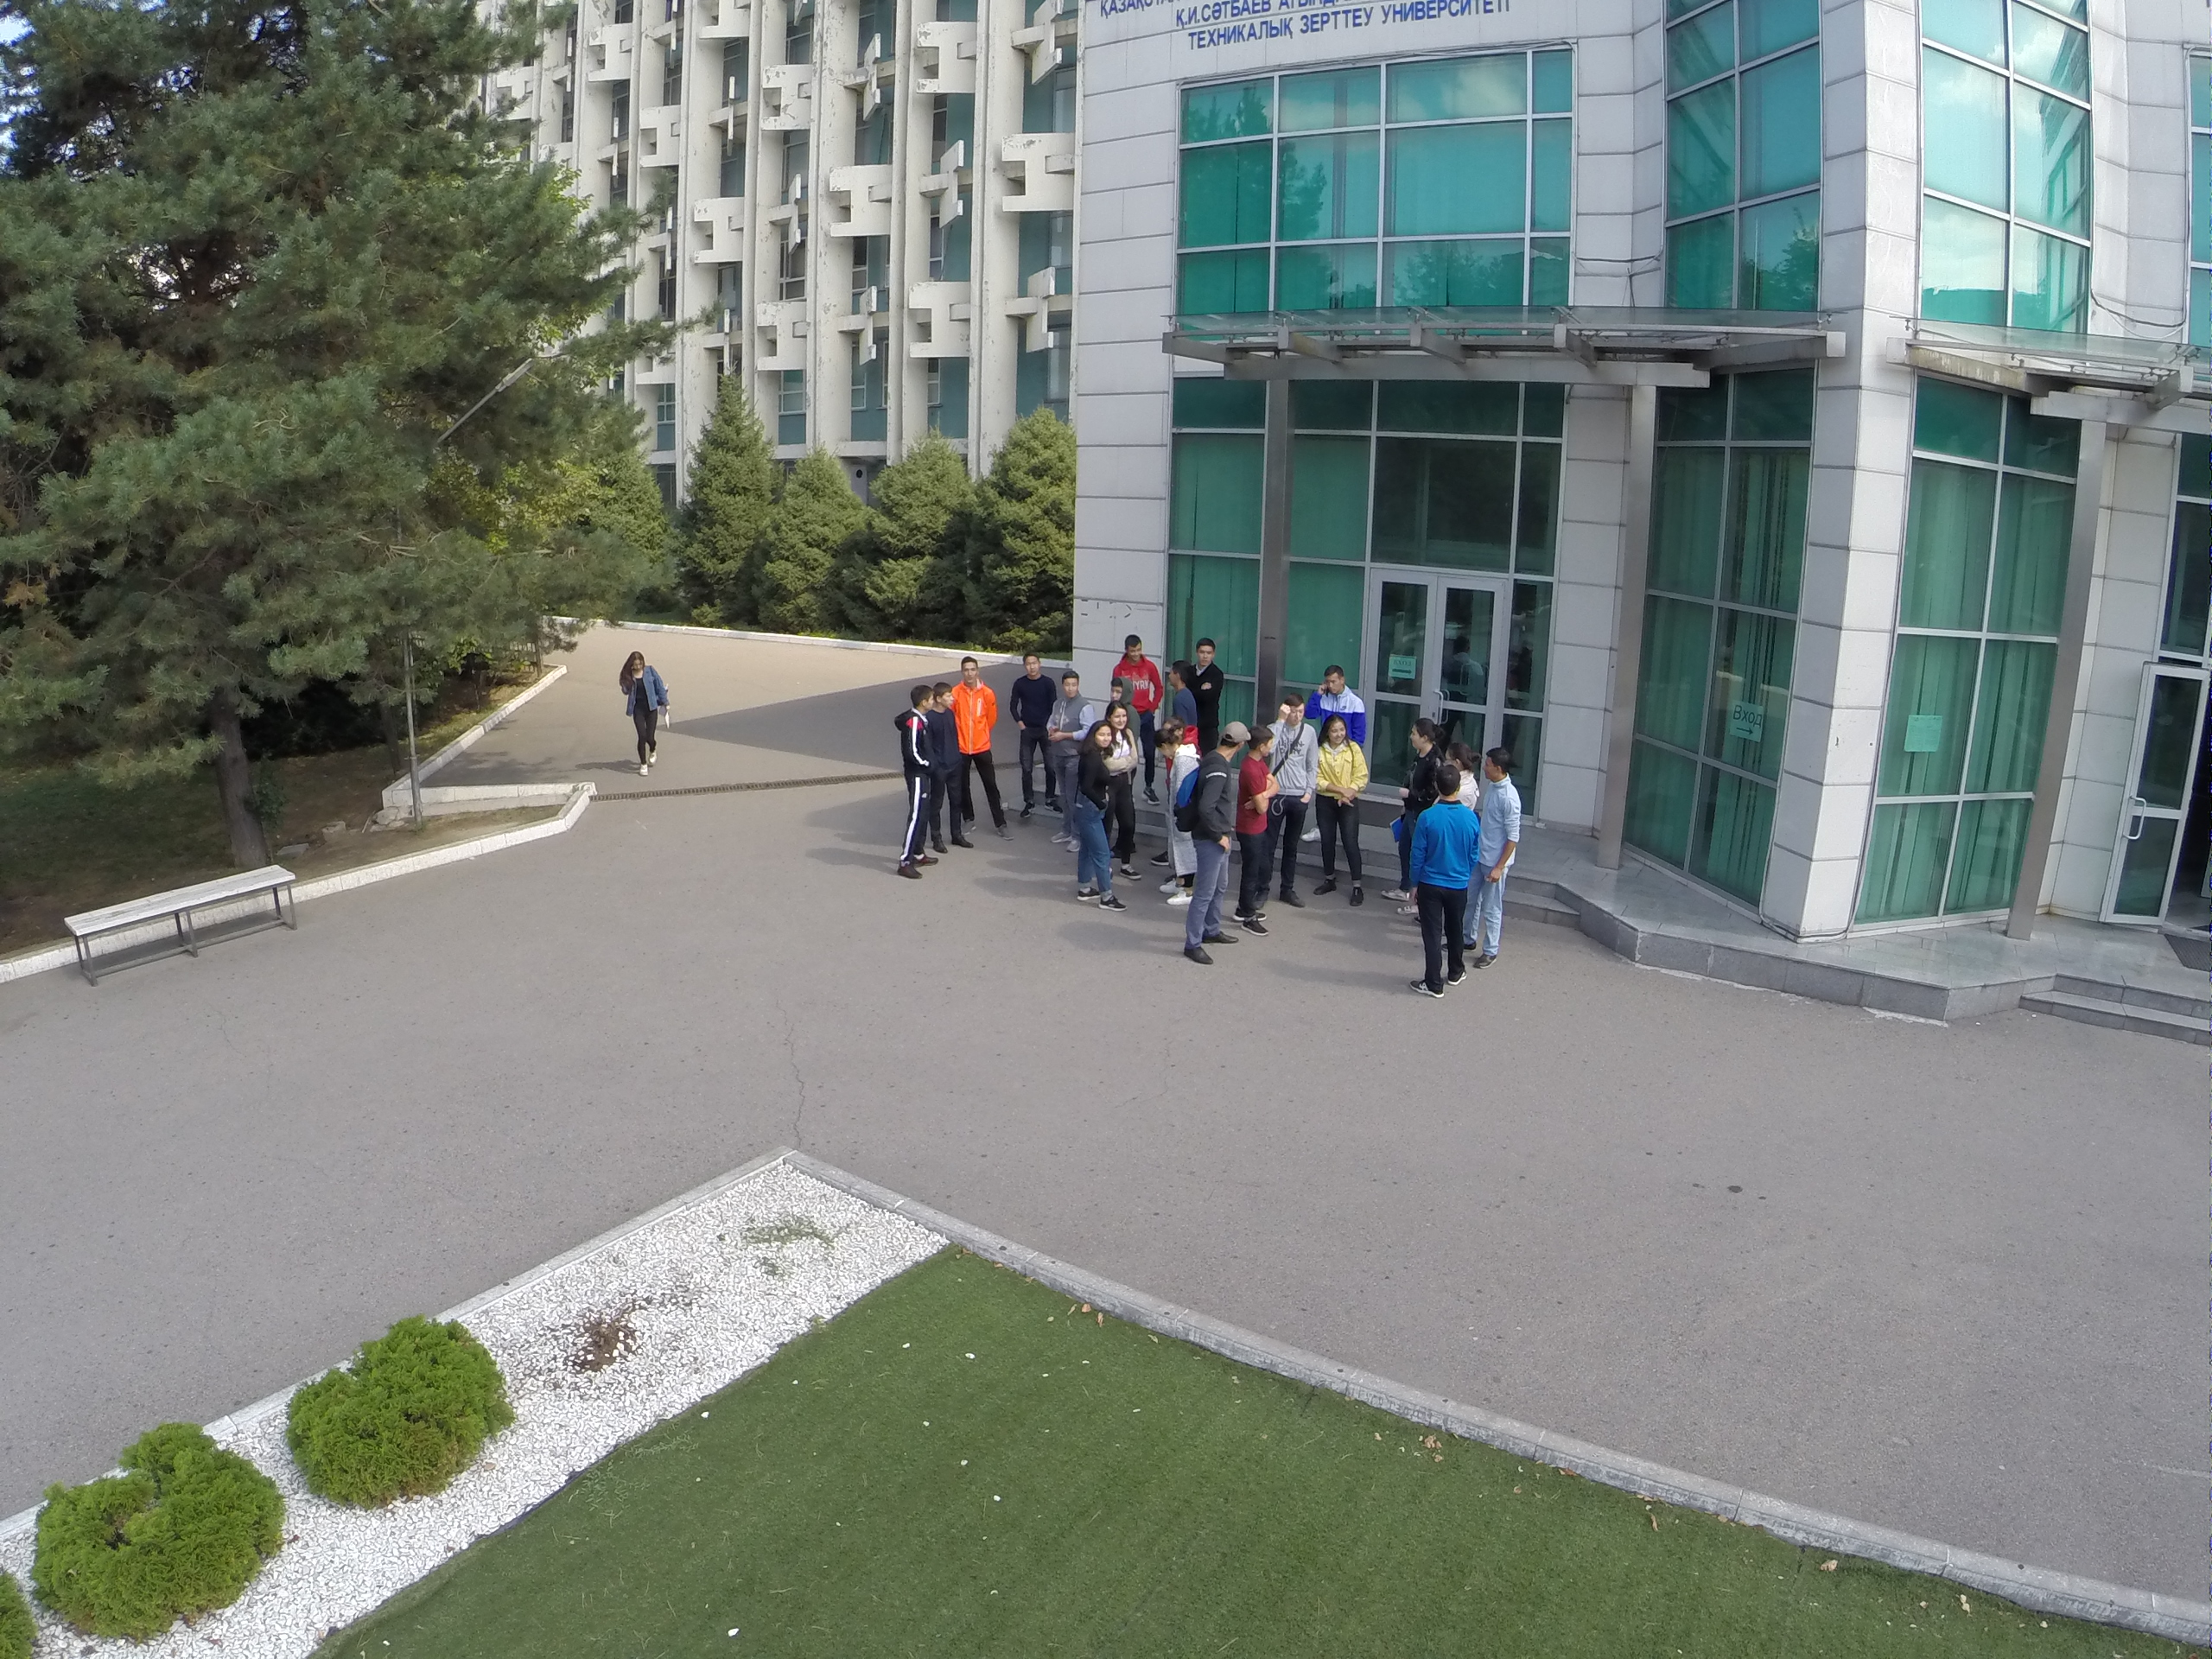person: (1414, 758, 1473, 1004), (1184, 721, 1243, 972), (955, 647, 1018, 838), (1387, 717, 1447, 913), (1313, 718, 1372, 912), (1474, 745, 1522, 974), (1262, 692, 1309, 915), (1071, 723, 1126, 913), (893, 683, 940, 882), (1109, 637, 1165, 804), (929, 677, 978, 853), (1150, 730, 1197, 911), (1043, 667, 1088, 854), (616, 652, 677, 780), (1012, 654, 1057, 819), (1100, 702, 1141, 880), (1247, 726, 1277, 938), (1157, 658, 1203, 739), (1310, 663, 1371, 723), (1193, 638, 1229, 741)
